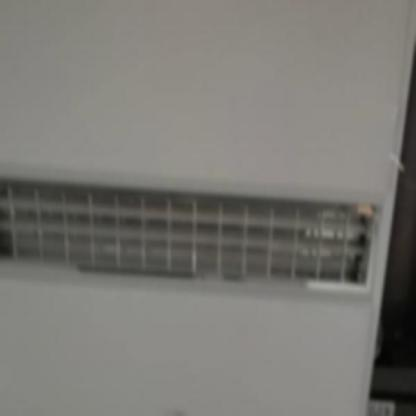light_off: (0, 86, 387, 323)
